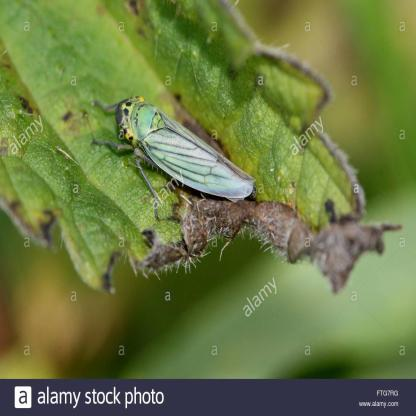Green-Leafhopper: (88, 86, 262, 214)
